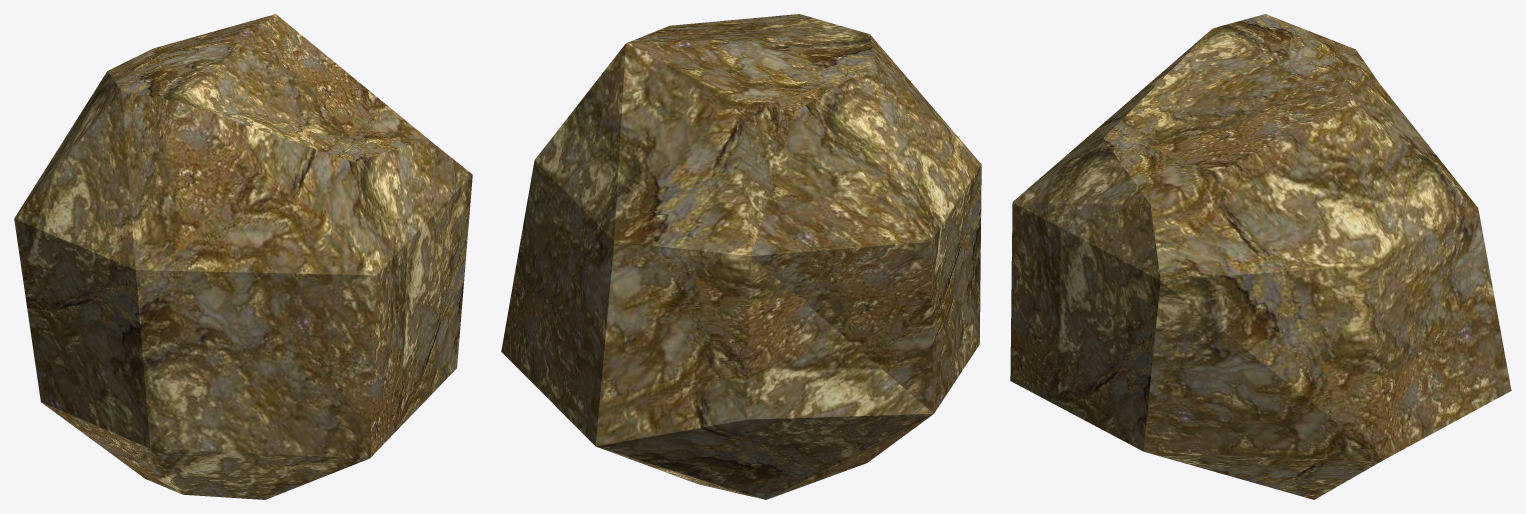
Rendered from nugget_g_s.dae.
The picture shows the model from 3 angles, left to right: view 1: azimuth 30°, elevation 25°; view 2: azimuth 150°, elevation 25°; view 3: azimuth 270°, elevation 25°; orthographic projection. The views are drawn at different scales.
Parts seen in each view (by area): view 1: S_nugget_gold_s; view 2: S_nugget_gold_s; view 3: S_nugget_gold_s.
Part boxes in pixels (x1=…): S_nugget_gold_s: x1=14, y1=14, x2=472, y2=499; S_nugget_gold_s: x1=501, y1=14, x2=981, y2=499; S_nugget_gold_s: x1=1010, y1=14, x2=1511, y2=499.
Size of the model in its own units: 0.5714 by 0.562 by 0.6486.
